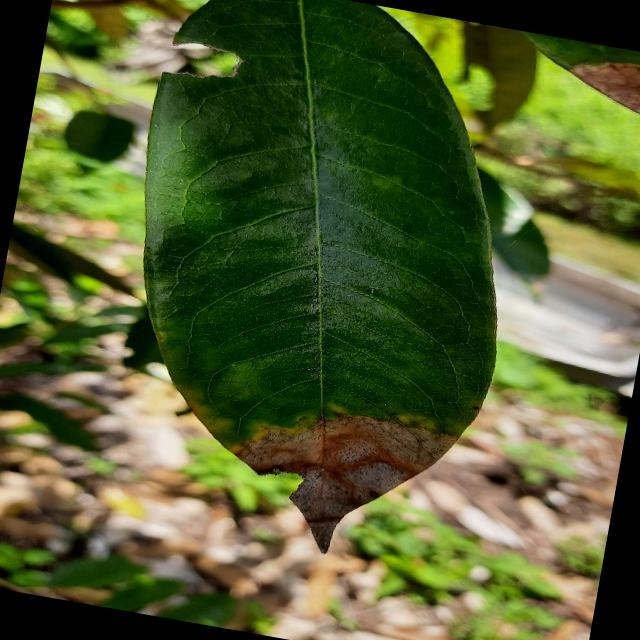Leaf Blight: (71, 0, 560, 587)
